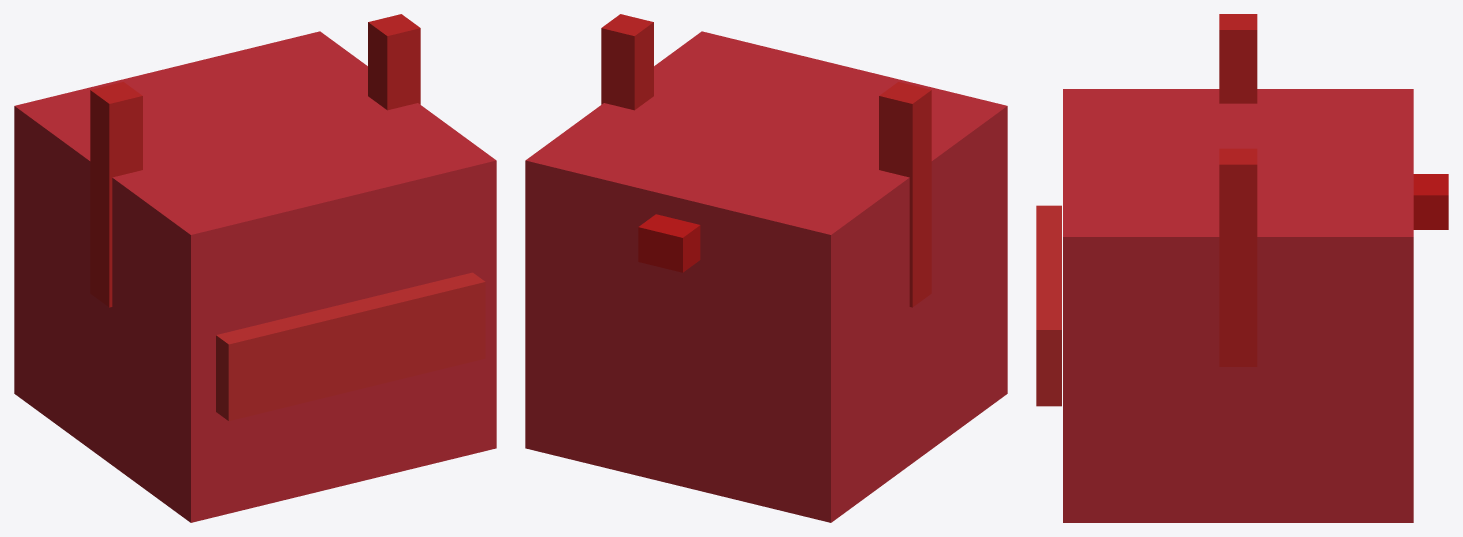
Rendered from head_003_valkyrion.obj.
The picture shows the model from 3 angles, left to right: view 1: azimuth 30°, elevation 25°; view 2: azimuth 150°, elevation 25°; view 3: azimuth 270°, elevation 25°; orthographic projection.
Size of the model in its own units: 0.56 by 0.6225 by 0.647.
